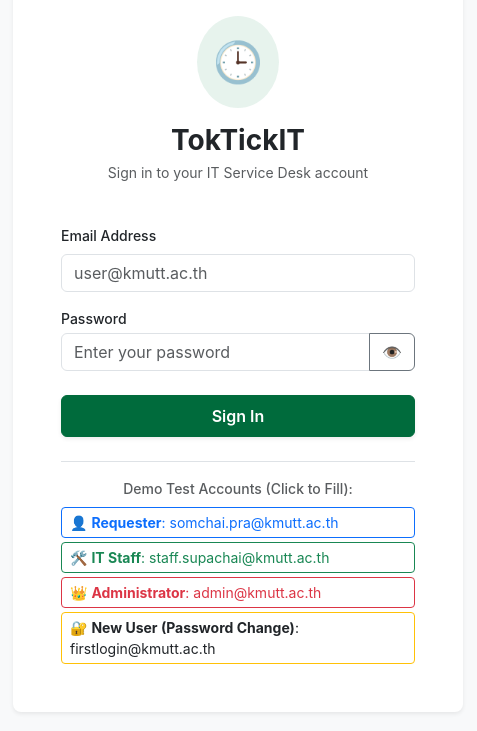
Test: UI-01 to UI-04: Login Component (client/tests/lab-03/Login.test.tsx) › UI-05: clicking quick-fill button automatically populates email and default password
Click the button "🛠️ IT Staff: staff.supachai@kmutt.ac.th": [238, 557] box [61,542,415,573]
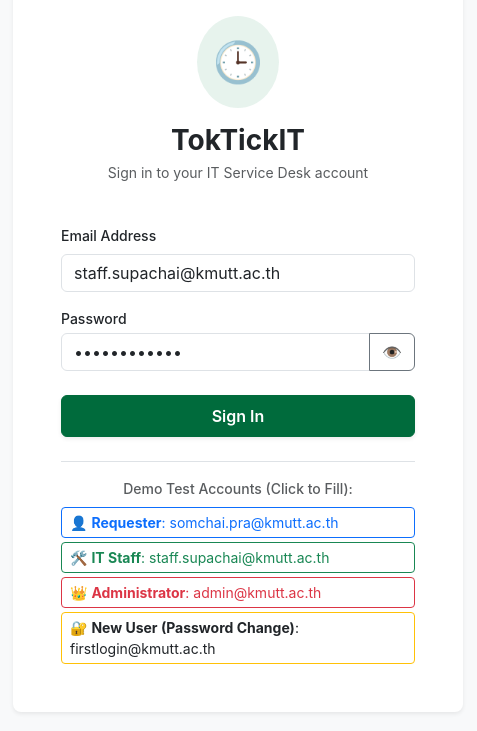
expect the field labelled "Email Address" holds "staff.supachai@kmutt.ac.th": met, box [61,254,415,292]
expect the password field labelled "Password" holds "Password123!": met, box [61,333,370,371]
